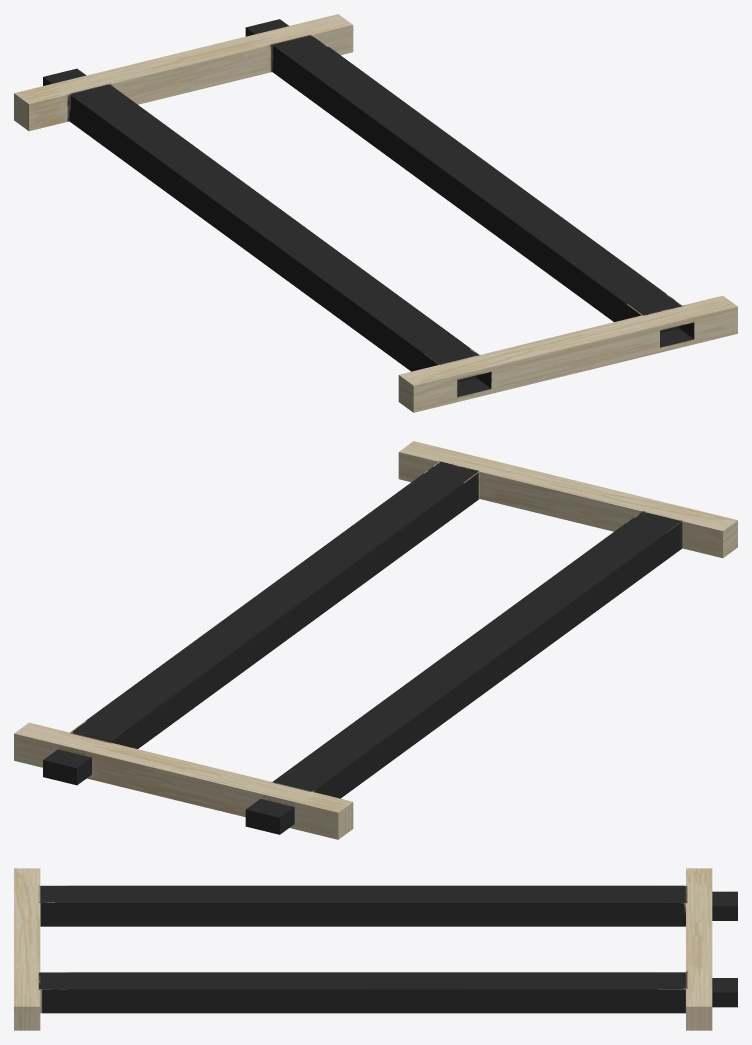
File: TrainTrack.fbx
3 renders of one model, top to bottom at view 1: azimuth 30°, elevation 25°; view 2: azimuth 150°, elevation 25°; view 3: azimuth 270°, elevation 25°, orthographic. The views are drawn at different scales.
Visible parts, largest first — view 1: Cube.012; view 2: Cube.012; view 3: Cube.012.
Part boxes in pixels (x1,y1,x2,y2): Cube.012: (14, 14, 737, 412); Cube.012: (14, 441, 737, 839); Cube.012: (14, 868, 737, 1030).
Bounding box in the file's own units: 250 × 20 × 553.
